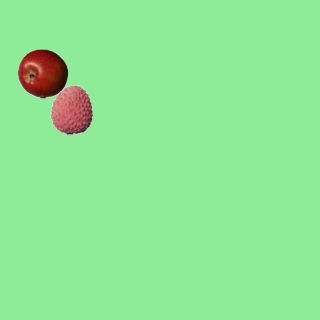Apple Braeburn: (17, 48, 67, 98)
Lychee: (46, 84, 96, 134)
